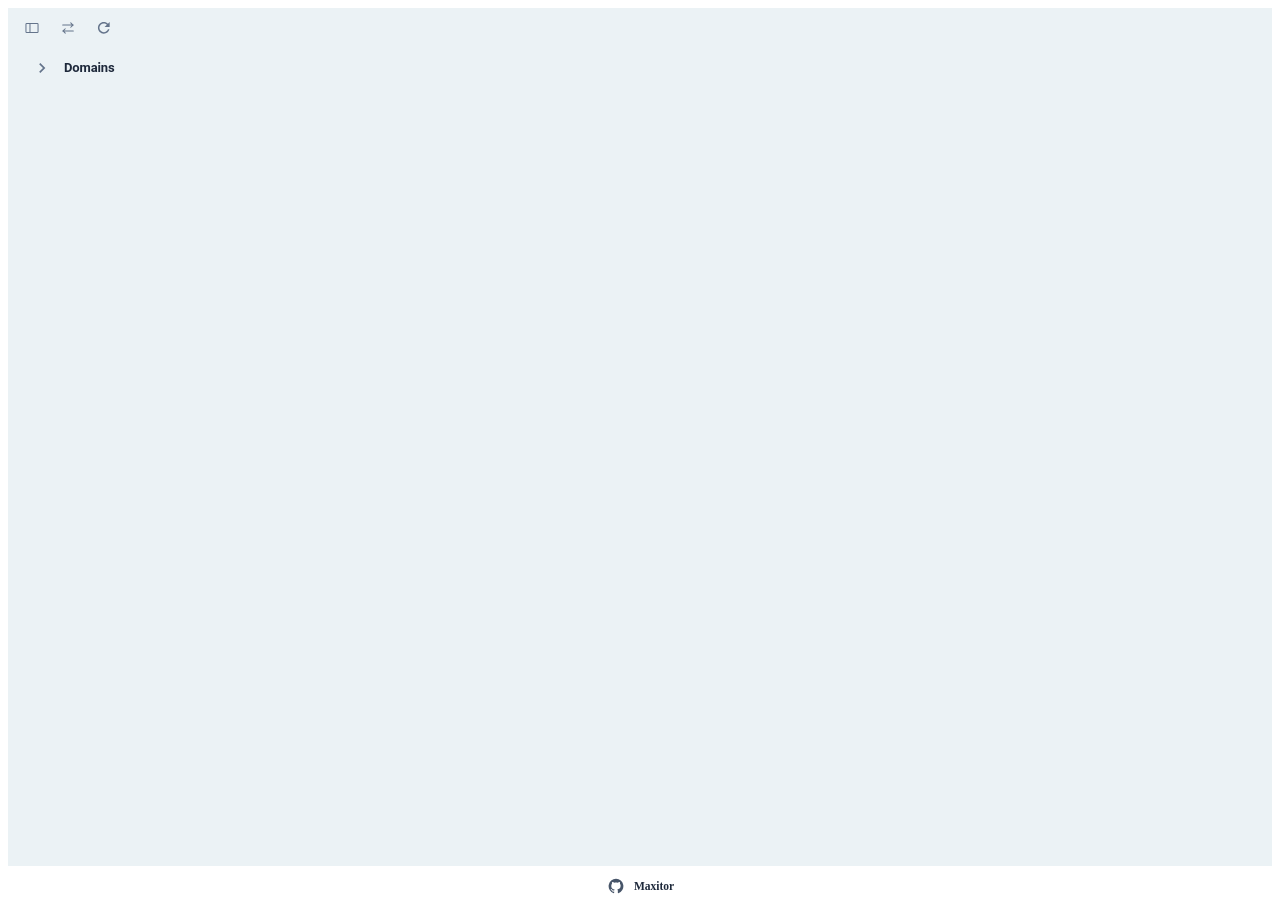
Scenario: the left panel in Diff (spec 038, FR-032) › marks a page only in B with + and one only in A with −
Click the button "Domains" at (73, 68), box top-left (32, 58), bottom-right (114, 78)
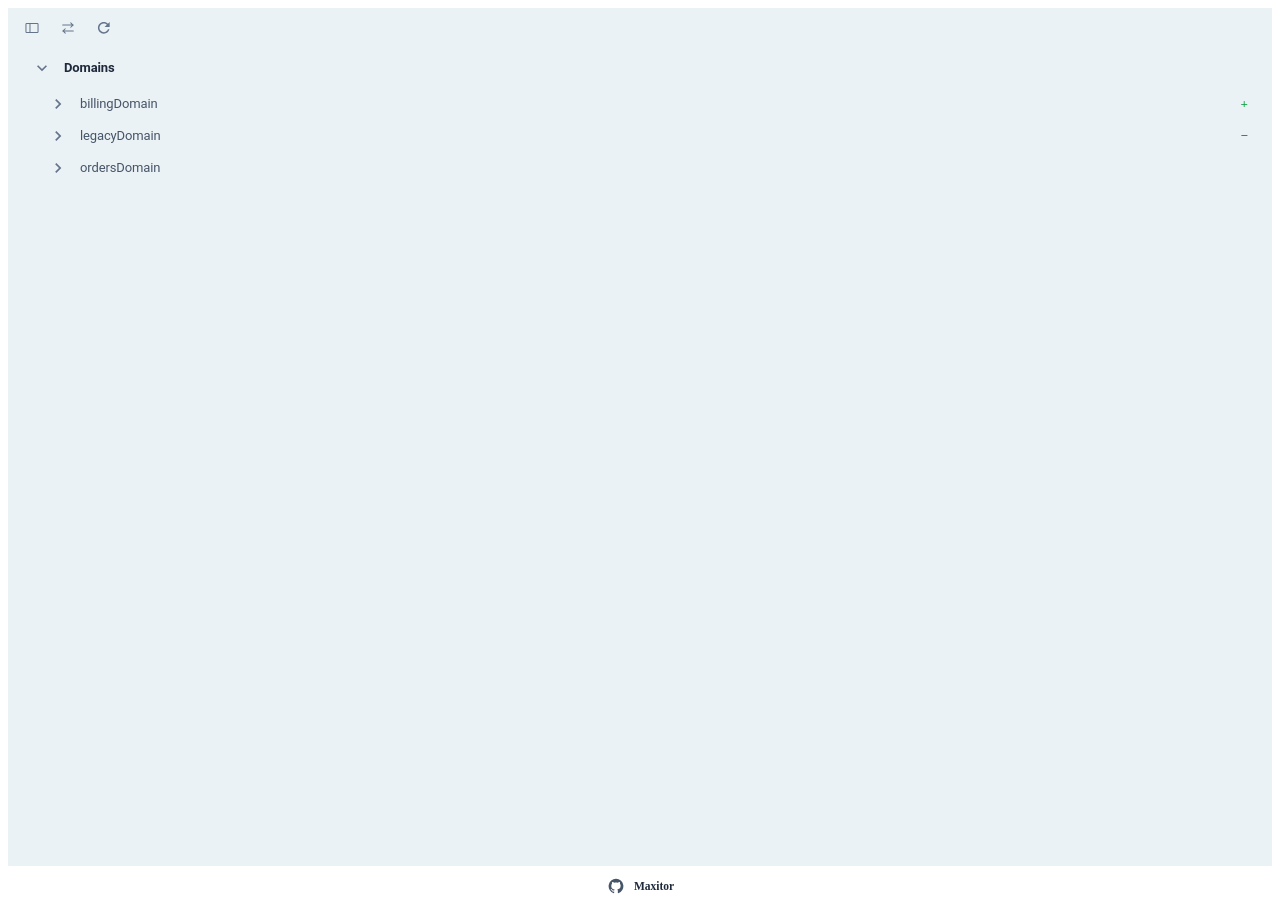
expect the text named "only in A" reads "−": met, box top-left (1241, 128), bottom-right (1248, 143)
expect the text named "only in B" reads "+": met, box top-left (1241, 96), bottom-right (1248, 111)
expect the number of elements with test id "only-mark" is 2: met, box top-left (1241, 96), bottom-right (1248, 112); top-left (1241, 128), bottom-right (1248, 144)
